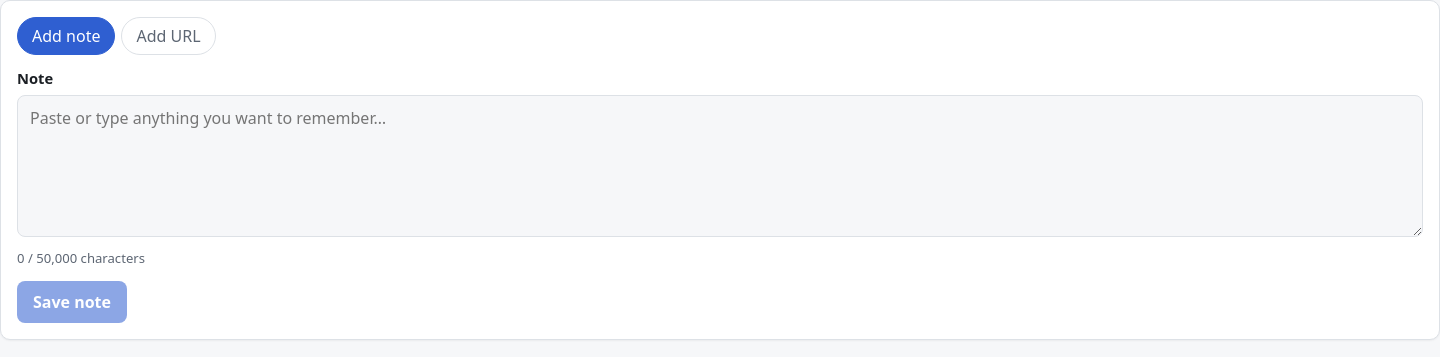
Scenario: AddContentForm › shows the server error message and keeps the input
The width and height of the screenshot is (1440, 357).
Click the tab "Add URL": (168,36) [121,17,216,55]
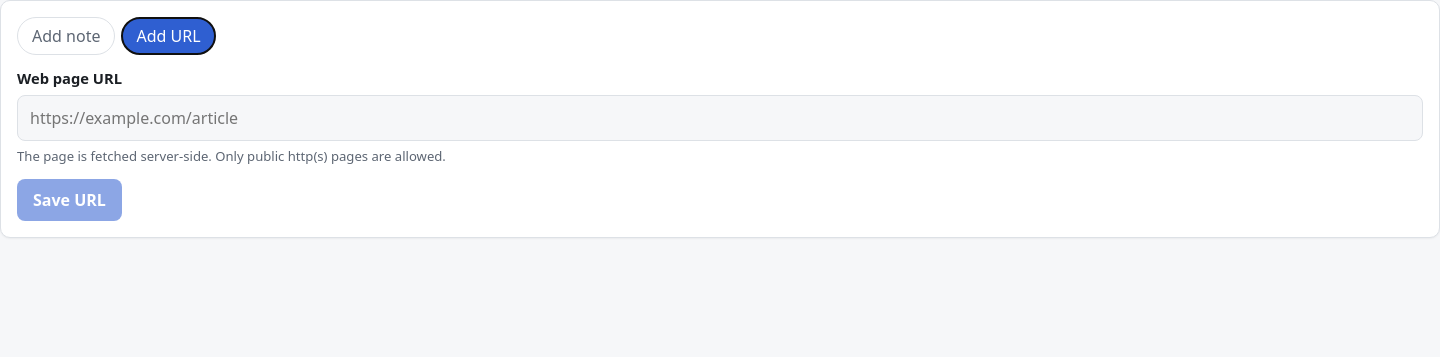
In the field labelled "Web page URL": (720,118) [17,95,1423,141], type "http://127.0.0.1/admin"
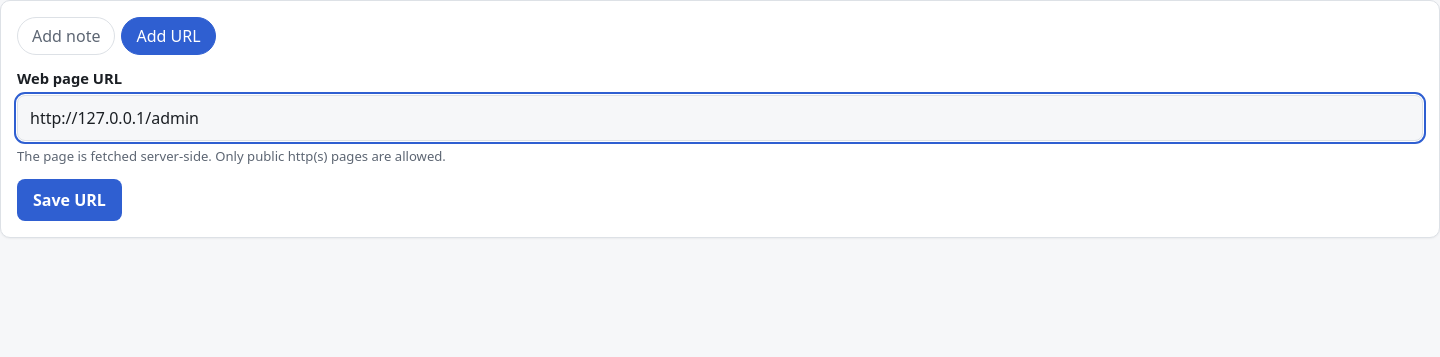
Click the button "Save URL": (69,200) [17,179,122,221]
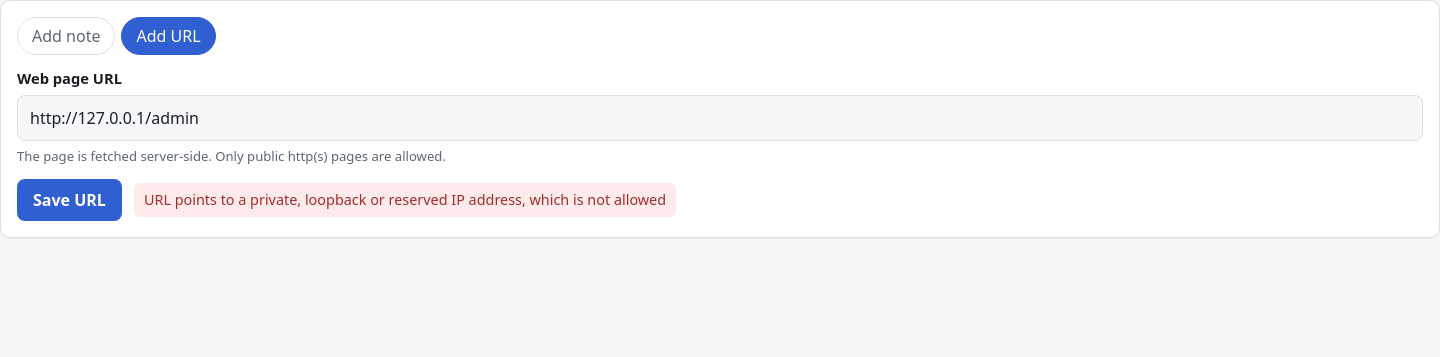
Now the button "Save URL" is enabled, box [17,179,122,221]
Now the message shows "private, loopback or reserved", box [144,190,666,209]
